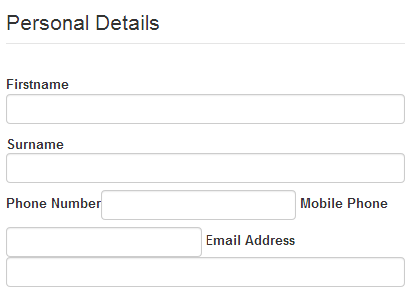textbox: (5, 91, 409, 127), (3, 255, 409, 289), (4, 153, 408, 186), (101, 189, 299, 224), (4, 225, 206, 258)
